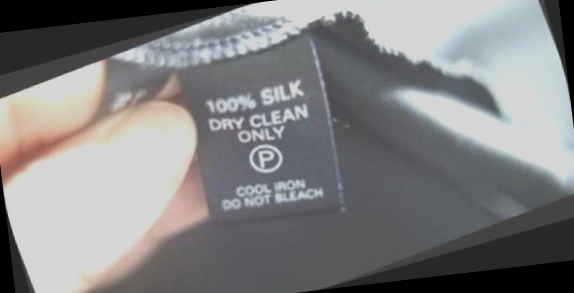dry_clean_any_solvent_except_trichloroethylene: (241, 133, 293, 182)
